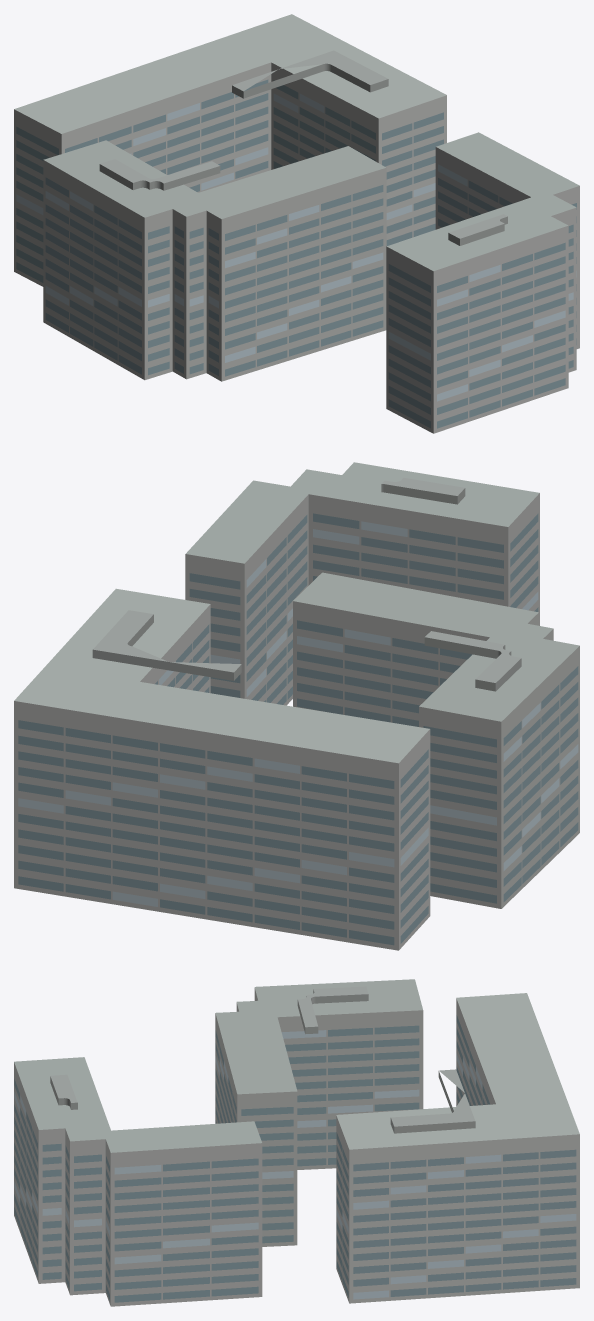
The model's file is apt-a13281201.glb.
3 renders of one model, top to bottom at view 1: azimuth 30°, elevation 25°; view 2: azimuth 150°, elevation 25°; view 3: azimuth 270°, elevation 25°, orthographic. The views are drawn at different scales.
Parts seen in each view (by area): view 1: apt-a13281201; view 2: apt-a13281201; view 3: apt-a13281201.
Part boxes in pixels (<box>): apt-a13281201: <box>14,14,579,433</box>; apt-a13281201: <box>14,462,579,950</box>; apt-a13281201: <box>14,979,579,1306</box>.
Size of the model in its own units: 88.6 by 38.25 by 122.
